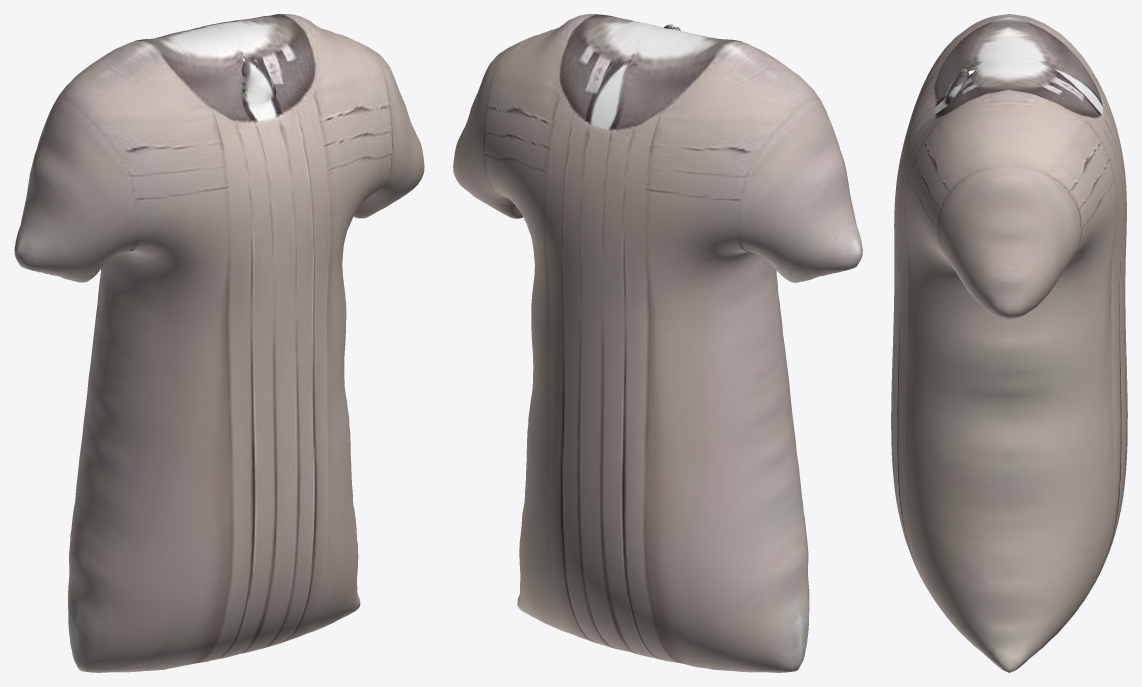
File: 3SE21E0B2-B11@12=cloth_front.glb
3 renders of one model, left to right at view 1: azimuth 30°, elevation 25°; view 2: azimuth 150°, elevation 25°; view 3: azimuth 270°, elevation 25°, orthographic. The views are drawn at different scales.
Size of the model in its own units: 4.6 by 6.73 by 2.55.
Materials: 1 (1 with a texture image).
